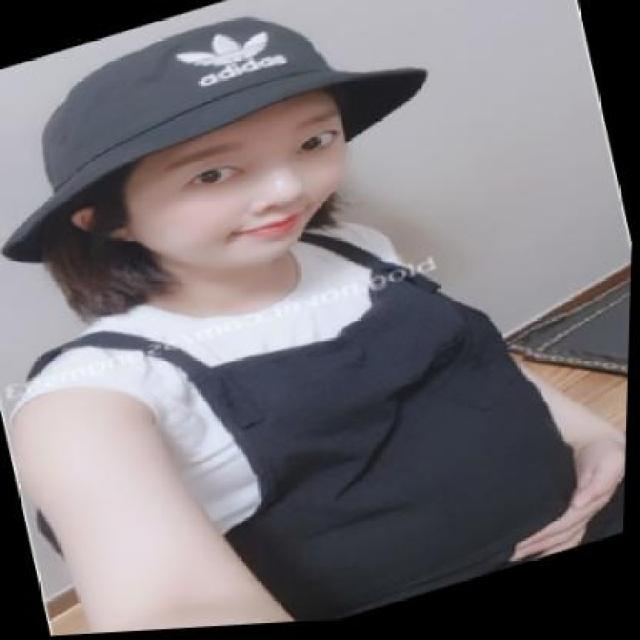hat: (0, 0, 451, 255)
